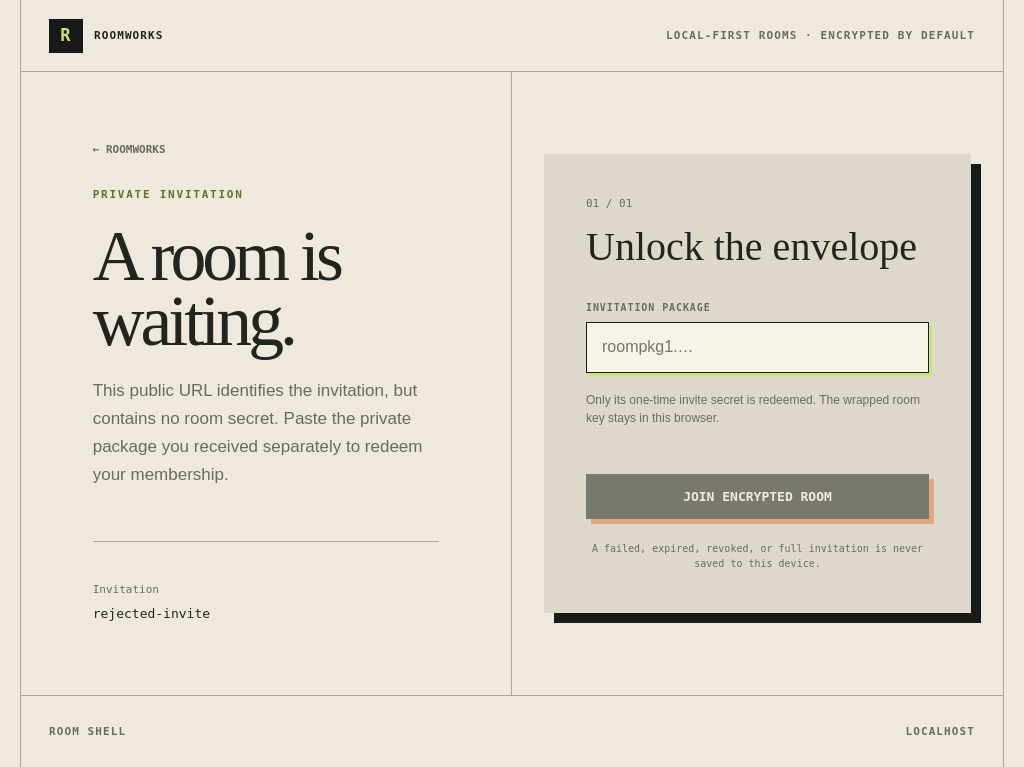
Test: room routes › keeps a rejected invitation visible and out of IndexedDB
Type "bad-key" into the password field labelled "Invitation package" at (758, 347), box [586,322,929,372]
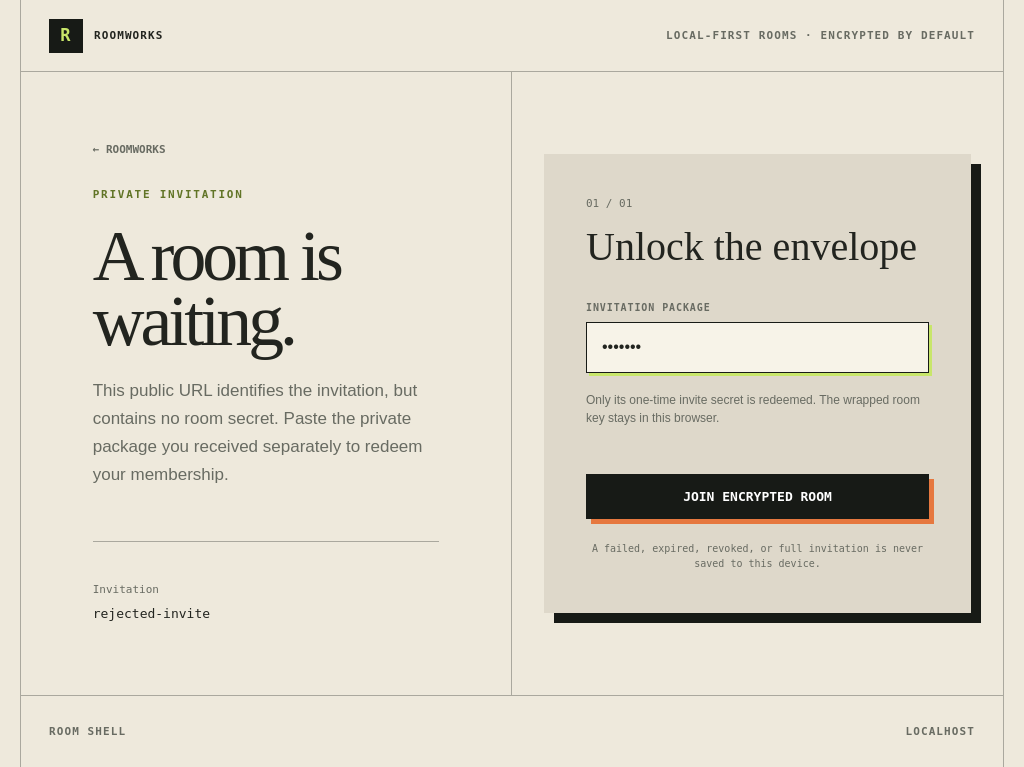
Submit the form named "Join encrypted room", box [544,154,971,613]
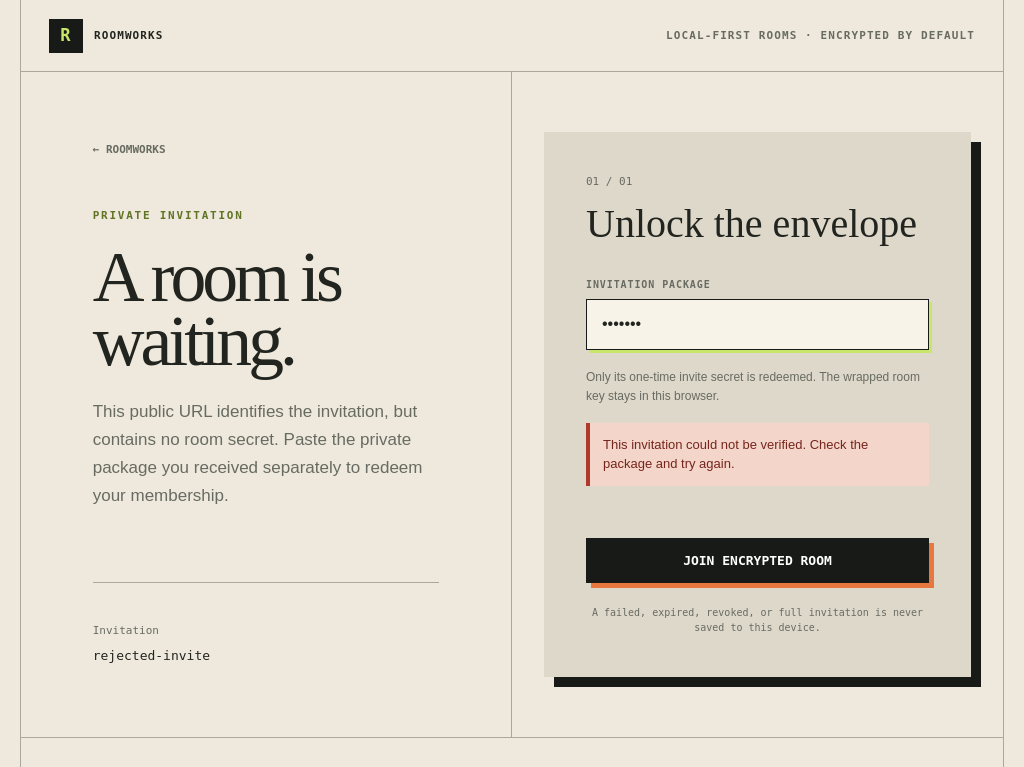
Expected: the text "rejected-invite" is shown, [93,648,210,663]
Expected: the message shows "This invitation could not be verified.", [603,437,868,471]
